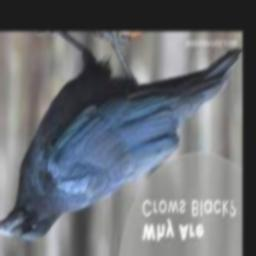Crow: (0, 33, 242, 240)
